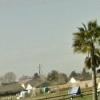Tree: (65, 17, 100, 80)
